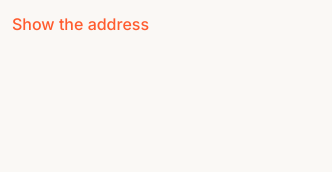
Test case: ProtectedEmail: address protection › reveals the assembled address on click
Click the button: (80, 24) [12,12,149,36]
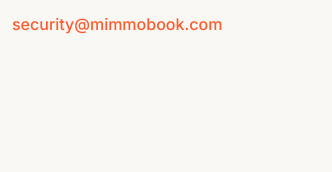
Check: the link "security@mimmobook.com" is shown, box [12,14,222,34]
